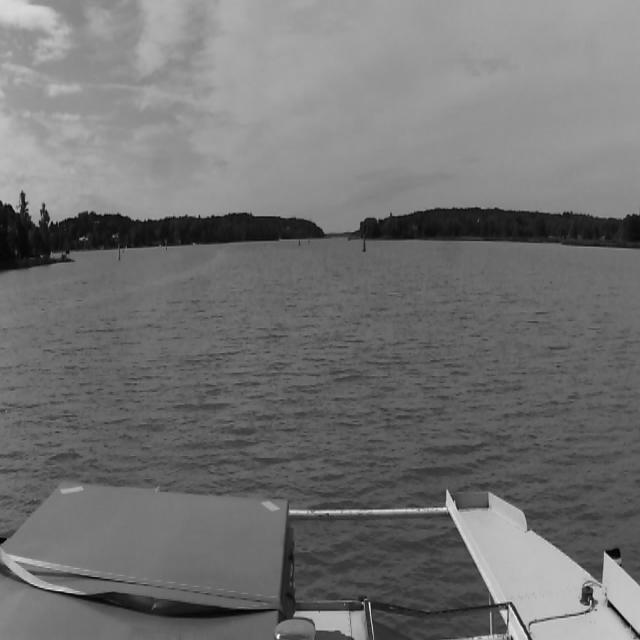buoy: (361, 230, 367, 255), (297, 235, 301, 245), (118, 242, 120, 260), (307, 237, 310, 244)
